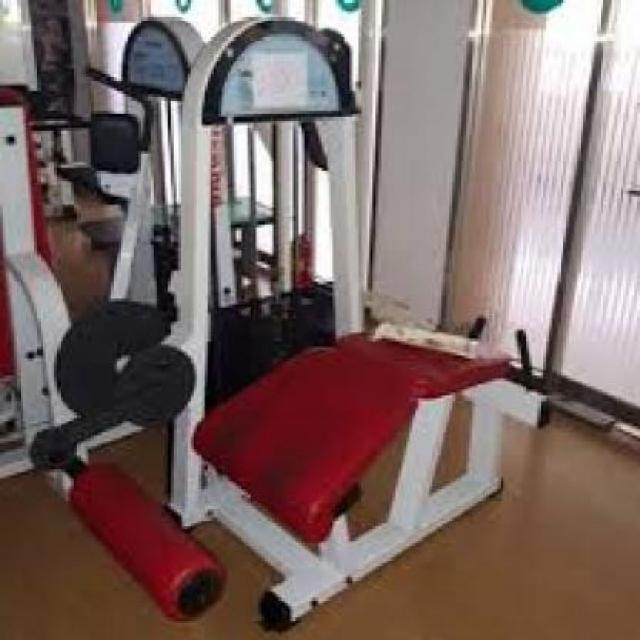reg curl machine: (31, 15, 560, 631)
